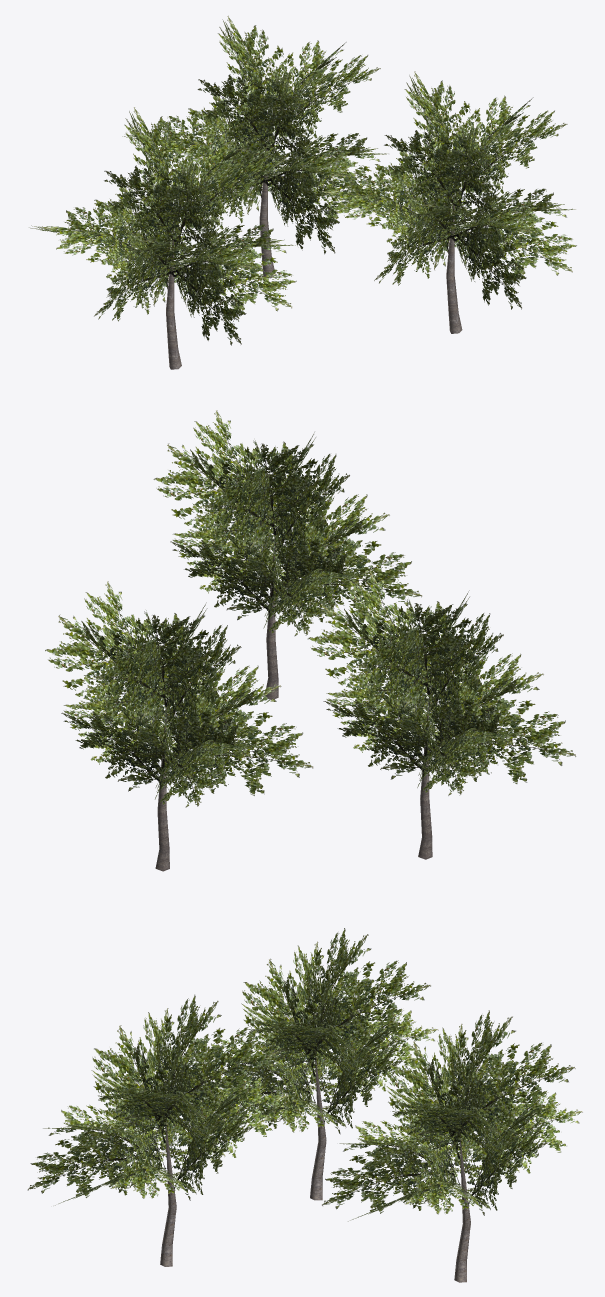
Rendered from trees1 1.fbx.
3 renders of one model, top to bottom at view 1: azimuth 30°, elevation 25°; view 2: azimuth 150°, elevation 25°; view 3: azimuth 270°, elevation 25°, orthographic. The views are drawn at different scales.
Visible parts, largest first — view 1: trees1; view 2: trees1; view 3: trees1.
Part boxes in pixels (x1=…): trees1: x1=29, y1=15, x2=576, y2=369; trees1: x1=45, y1=410, x2=576, y2=871; trees1: x1=27, y1=928, x2=582, y2=1282.
Bounding box in the file's own units: 1579 × 971 × 1629.
2 materials, 2 textured.
